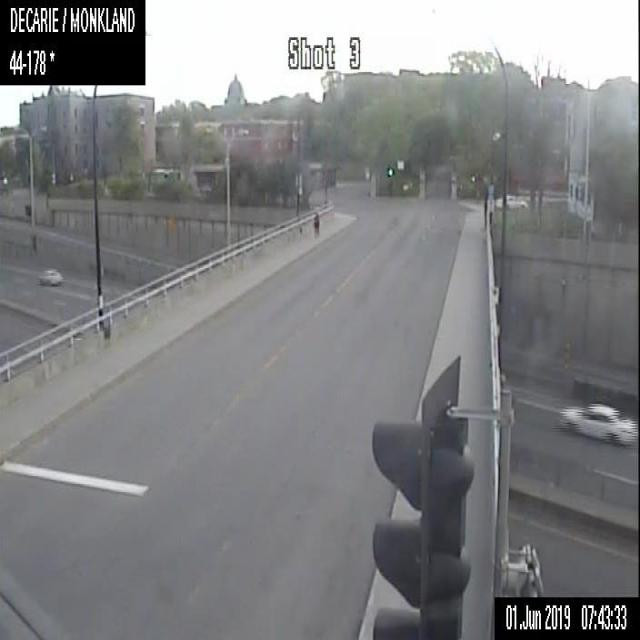pedestrian: (312, 208, 319, 233)
vehicle: (559, 401, 636, 443), (497, 190, 527, 207), (37, 268, 64, 284)
